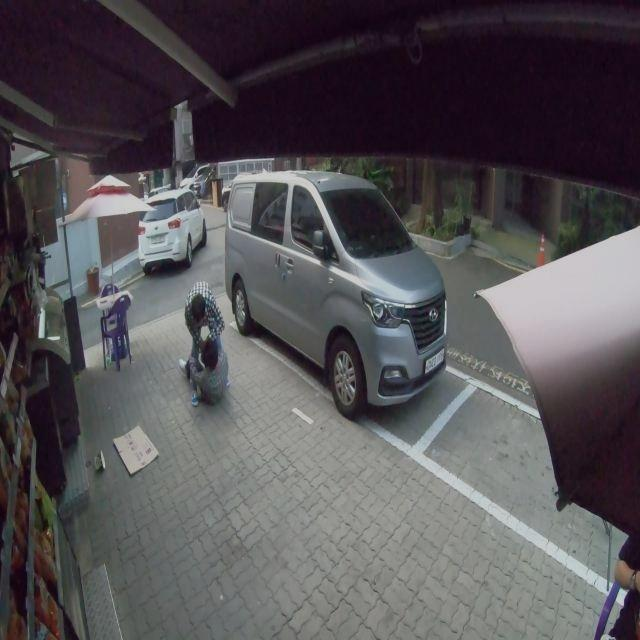fight: (179, 287, 233, 407)
